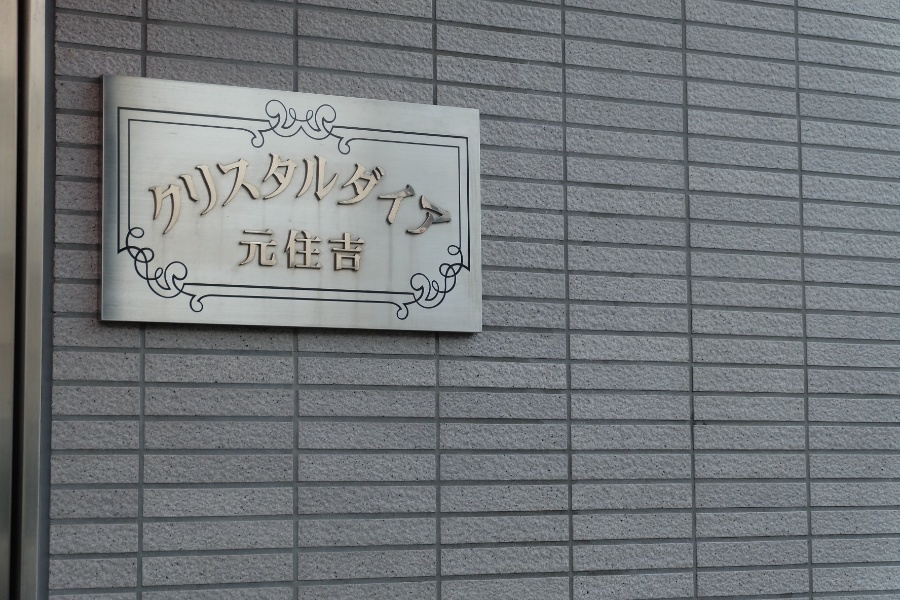text: (161, 136, 176, 258), (177, 136, 192, 258), (193, 136, 208, 258), (209, 136, 224, 258), (225, 136, 240, 258), (241, 136, 256, 258), (257, 136, 272, 258), (273, 136, 288, 258), (289, 136, 304, 258), (305, 136, 320, 258), (321, 136, 336, 258), (337, 136, 352, 258), (353, 136, 368, 258), (369, 136, 384, 258), (385, 136, 400, 258), (401, 136, 416, 258), (417, 136, 432, 258), (433, 136, 448, 258), (148, 136, 160, 258), (241, 227, 256, 275), (257, 227, 272, 275), (273, 227, 288, 275), (289, 227, 304, 275), (305, 227, 320, 275), (321, 227, 336, 275), (337, 227, 352, 275), (353, 227, 366, 275), (449, 136, 454, 258)
